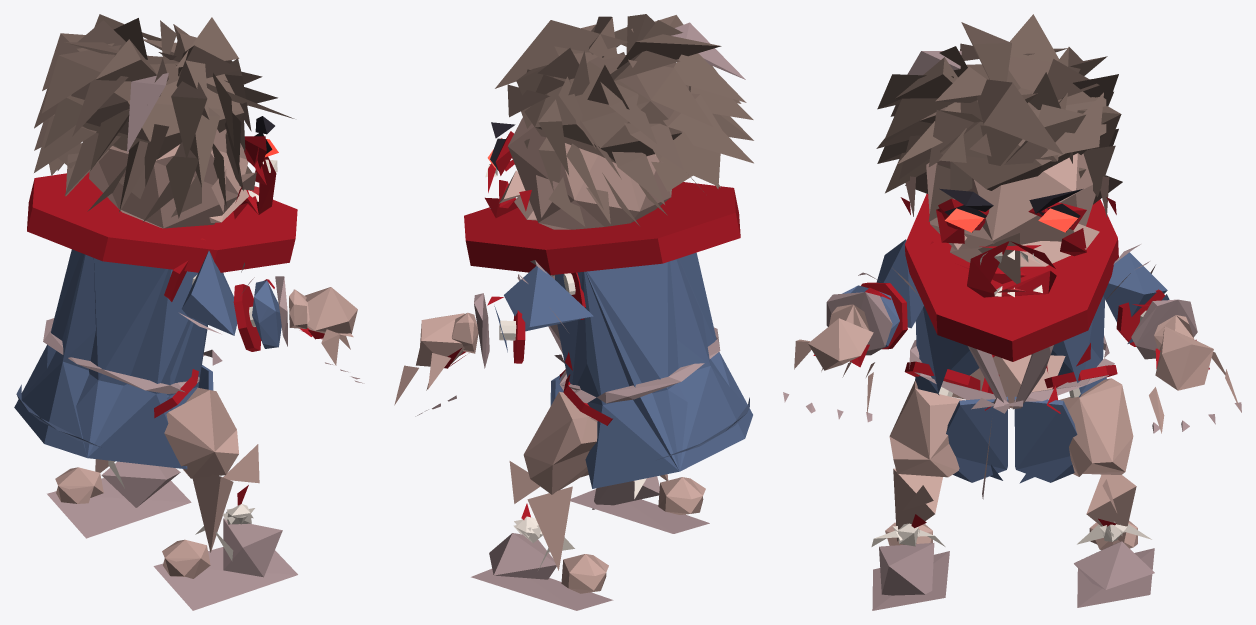
Rendered from inf.bathrobe-neighbor.lod2.glb.
3 renders of one model, left to right at view 1: azimuth 30°, elevation 25°; view 2: azimuth 150°, elevation 25°; view 3: azimuth 270°, elevation 25°, orthographic. The views are drawn at different scales.
Parts seen in each view (by area): view 1: head, torso, stump_head, footR, footL, legR, armR, foreArmR, shinR, handR, stump_foreArmR, stump_legR (+1 smaller); view 2: head, torso, stump_head, footL, footR, legL, armL, shinL, handL, foreArmL, stump_foreArmL, stump_legL; view 3: head, torso, stump_head, footR, legL, footL, legR, handL, foreArmR, handR, foreArmL, armL (+8 smaller).
Part boxes in pixels (x1,y1,x2,y2): head: (34,14,294,228); torso: (14,249,223,469); stump_head: (27,172,297,272); footR: (153,504,297,610); footL: (47,460,191,538); legR: (164,388,238,478); armR: (179,251,254,335); foreArmR: (252,276,309,348); shinR: (192,444,259,552); handR: (300,287,364,383); stump_foreArmR: (233,284,261,351); stump_legR: (154,369,198,418); head: (485,14,753,229); torso: (548,252,752,488); stump_head: (464,182,740,275); footL: (471,516,613,610); footR: (570,476,709,533); legL: (523,391,597,494); armL: (504,260,593,332); shinL: (509,461,572,570); handL: (394,313,465,416); foreArmL: (452,293,507,368); stump_foreArmL: (499,310,525,363); stump_legL: (563,374,612,425); head: (876,14,1122,297); torso: (909,296,1114,499); stump_head: (905,194,1118,361); footR: (871,522,949,610); legL: (1059,378,1133,476); footL: (1074,520,1154,607); legR: (889,380,964,477); handL: (1149,326,1241,433); foreArmR: (826,285,899,355); handR: (783,318,874,422); foreArmL: (1127,294,1197,359); armL: (1103,244,1167,321).
Size of the model in its own units: 0.9621 by 1.77 by 1.39.
